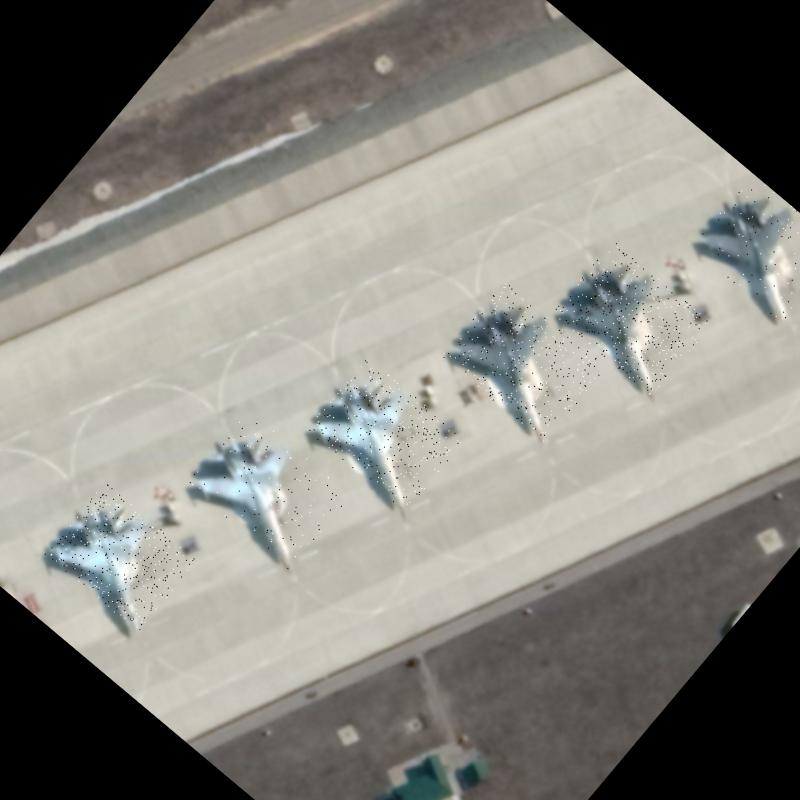A1: (440, 281, 606, 443), (184, 408, 350, 569), (304, 356, 466, 512), (551, 241, 712, 396), (43, 482, 198, 633), (689, 173, 800, 326)
